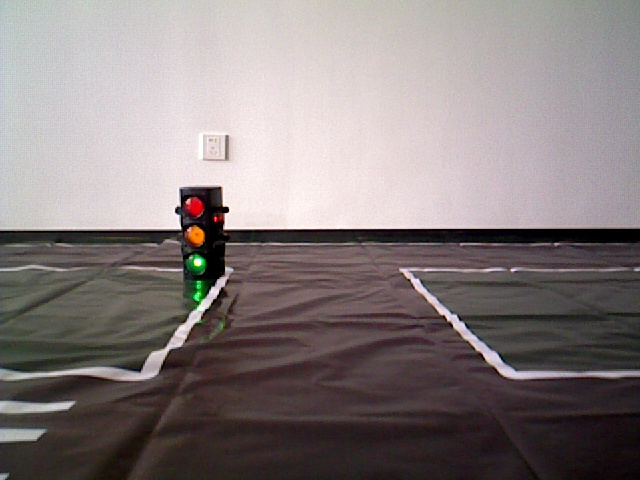green: (182, 191, 218, 277)
